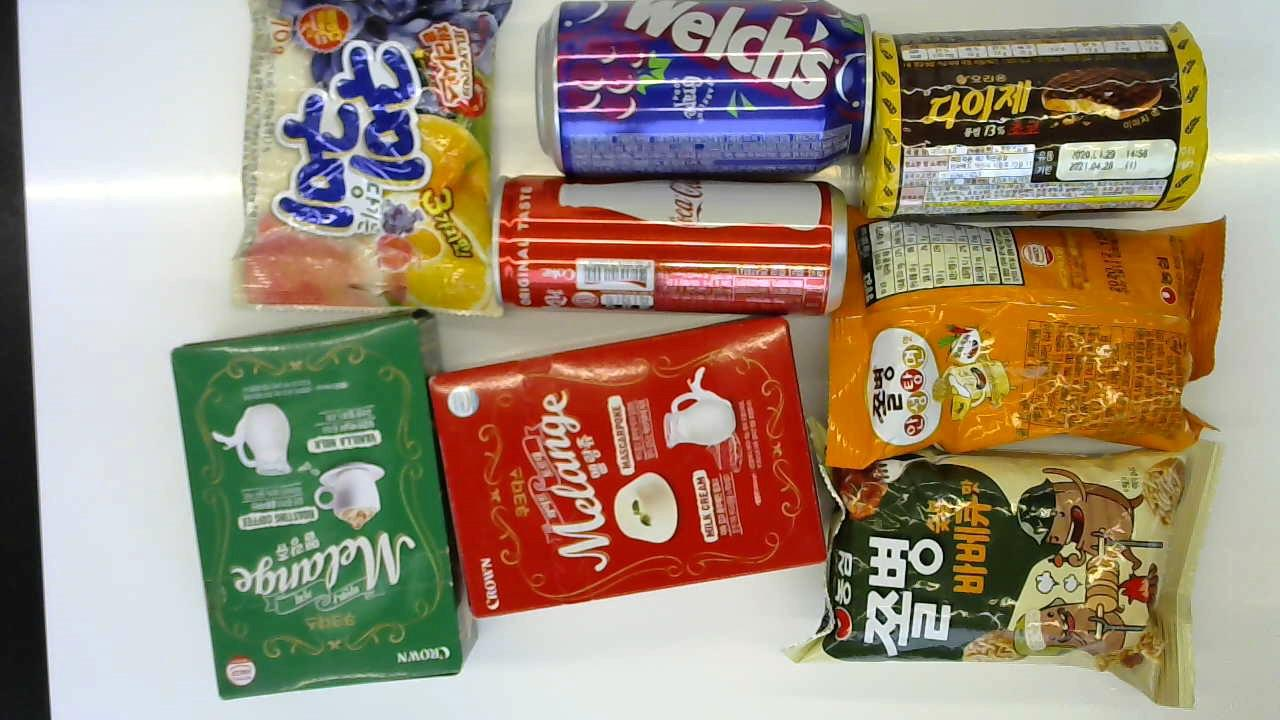coke: (491, 163, 851, 320)
couque_coffee: (159, 305, 486, 711)
couque_white: (424, 300, 831, 623)
diget_choco: (855, 18, 1217, 227)
gumi_gumi: (223, 0, 522, 325)
jjolbyung_noodle: (823, 207, 1226, 461)
jjolbyung_ori: (809, 428, 1202, 713)
welchs: (527, 0, 876, 164)
